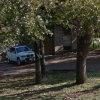Tree: (11, 0, 100, 44)
